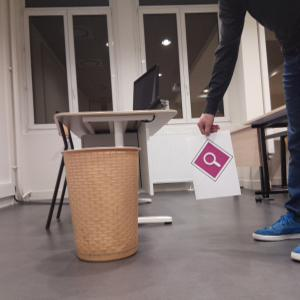search: (192, 138, 232, 181)
